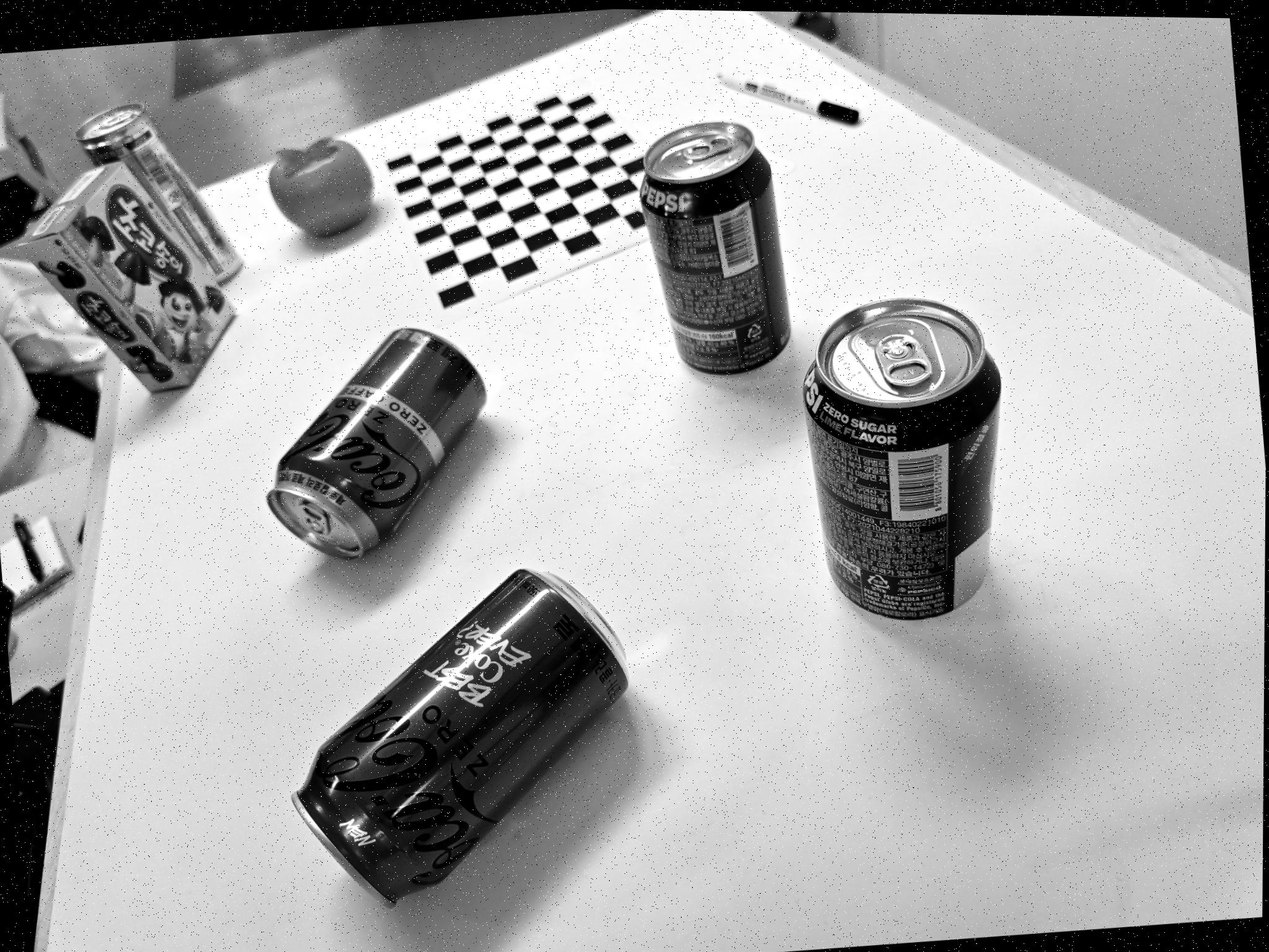can_coke_decaf: (267, 329, 486, 559)
can_coke_zero: (293, 569, 627, 904)
can_pepsi: (640, 121, 790, 375)
can_pepsi_zero: (803, 298, 1001, 619)
